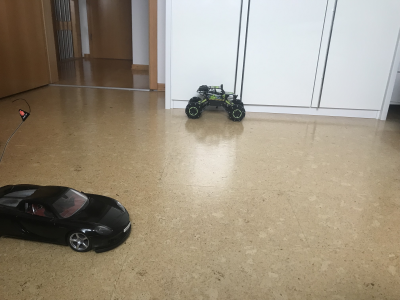remote control car: (182, 83, 248, 122)
